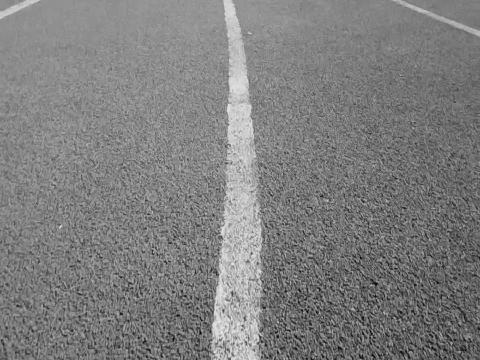Lines: (206, 0, 262, 360)
